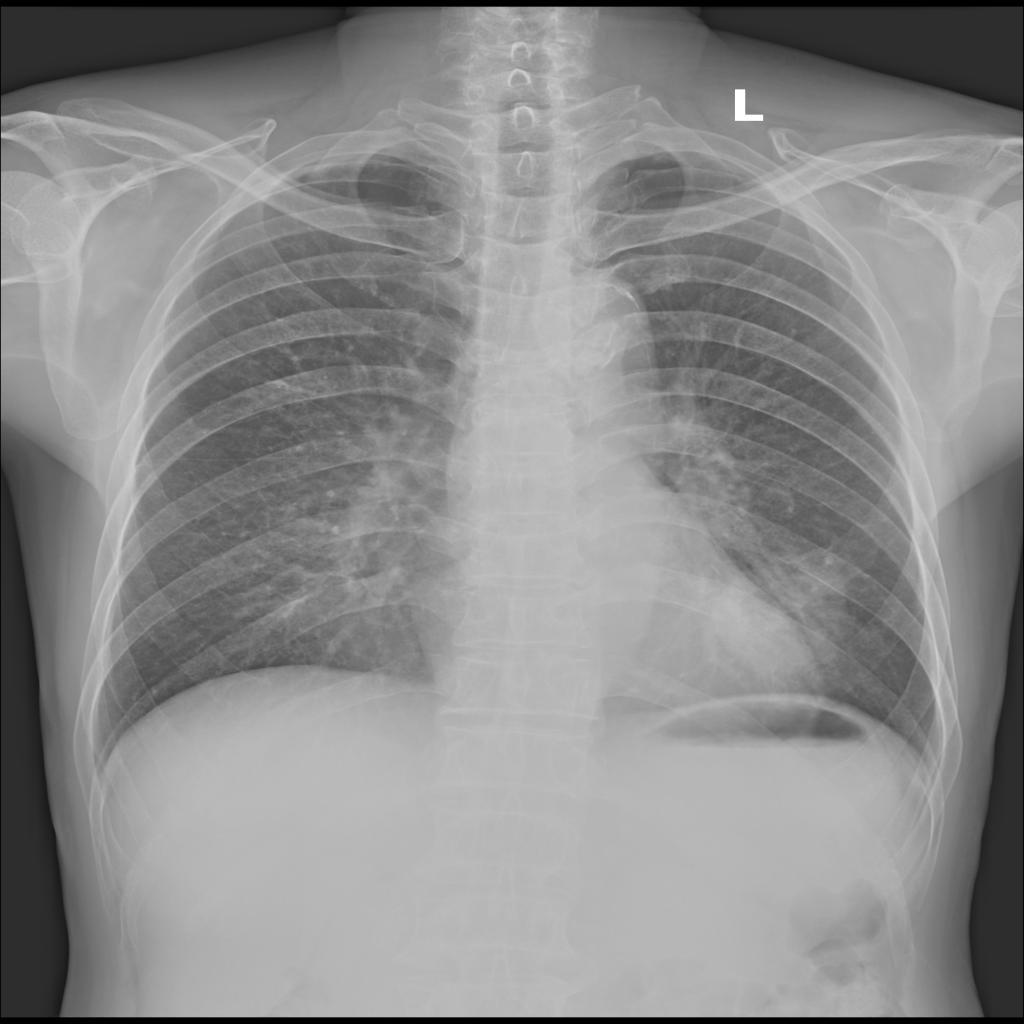Nodule: (700, 552, 851, 679)
